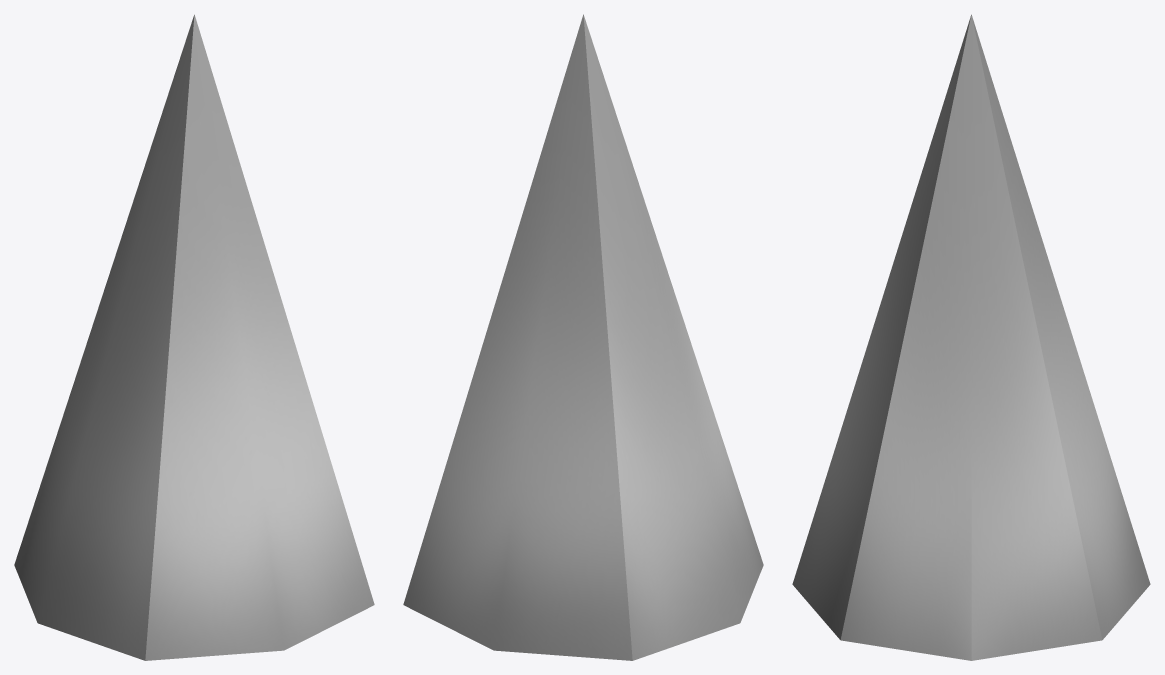
The model's file is Pique_sol.FBX.
3 views of the same model, side by side, from view 1: azimuth 30°, elevation 25°; view 2: azimuth 150°, elevation 25°; view 3: azimuth 270°, elevation 25° (orthographic).
Parts seen in each view (by area): view 1: Pique_sol; view 2: Pique_sol; view 3: Pique_sol.
Boxes of the visible parts, x1,y1,x2,y2 form: Pique_sol: [14, 14, 374, 660]; Pique_sol: [403, 14, 763, 660]; Pique_sol: [792, 14, 1150, 660].
Size of the model in its own units: 0.1733 by 0.3013 by 0.1715.
